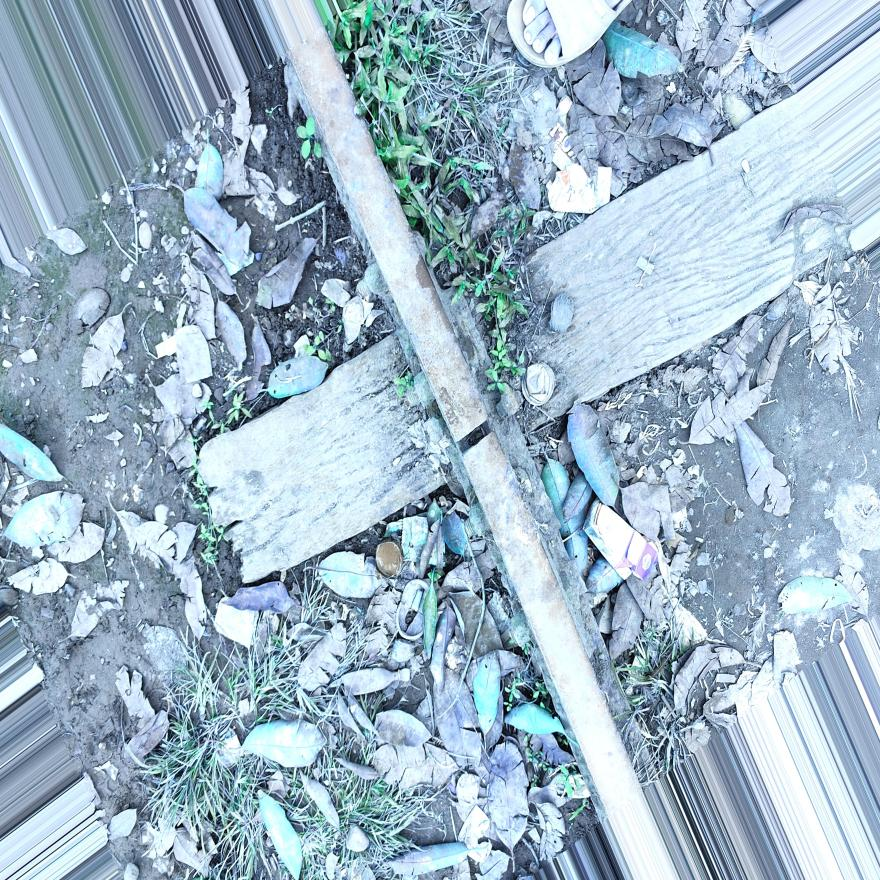railway-gap: (432, 382, 515, 491)
